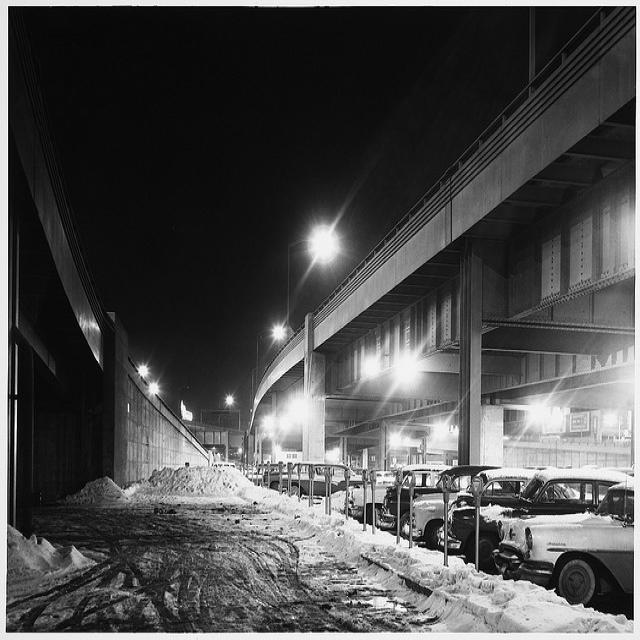Vehicle: (450, 466, 635, 575), (498, 481, 638, 602), (404, 468, 540, 550), (376, 465, 454, 530), (277, 463, 364, 498), (348, 476, 396, 508)
